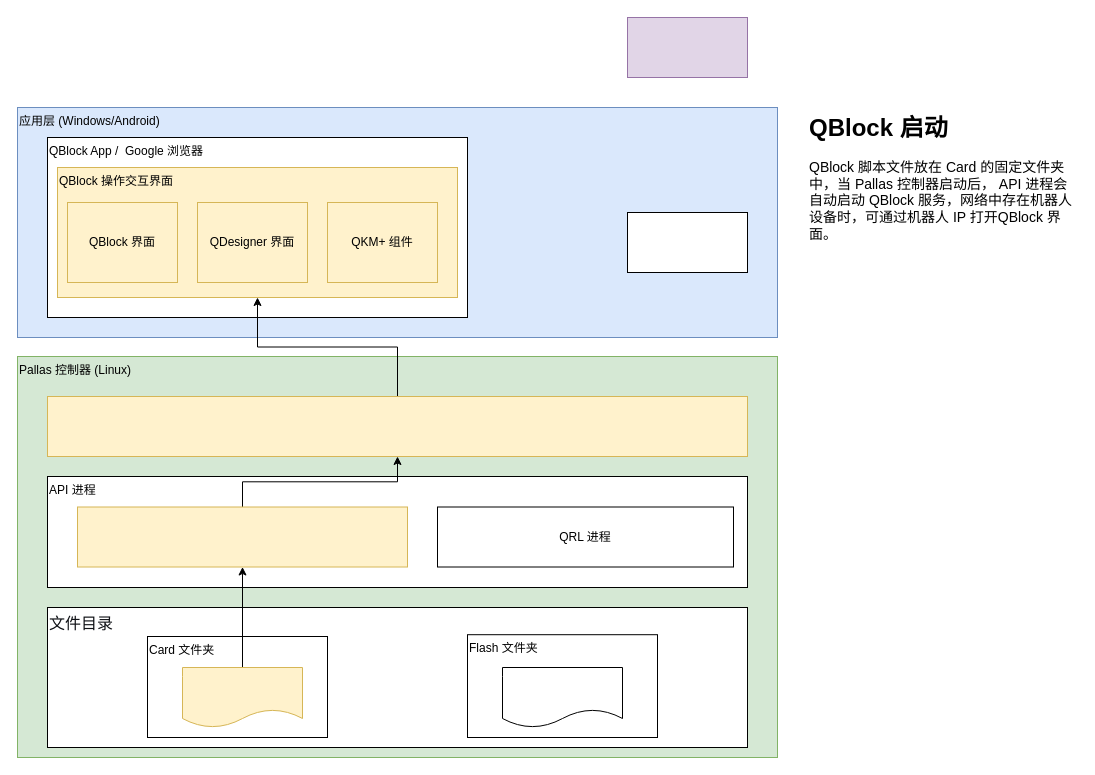
Some shapes in this 1095 by 775 pixel diagram are drawn without their labels. The centre of each missing label's shape, as x and y in pixels:
"API 功能" belongs at (242,536).
"QBlock 服务" belongs at (397,426).
"QBlock 脚本文件" belongs at (242,697).
"QRL 工程文件" belongs at (562,697).
"外围设备" belongs at (687,47).
"外围设备应用 (驱动)" belongs at (687,242).
